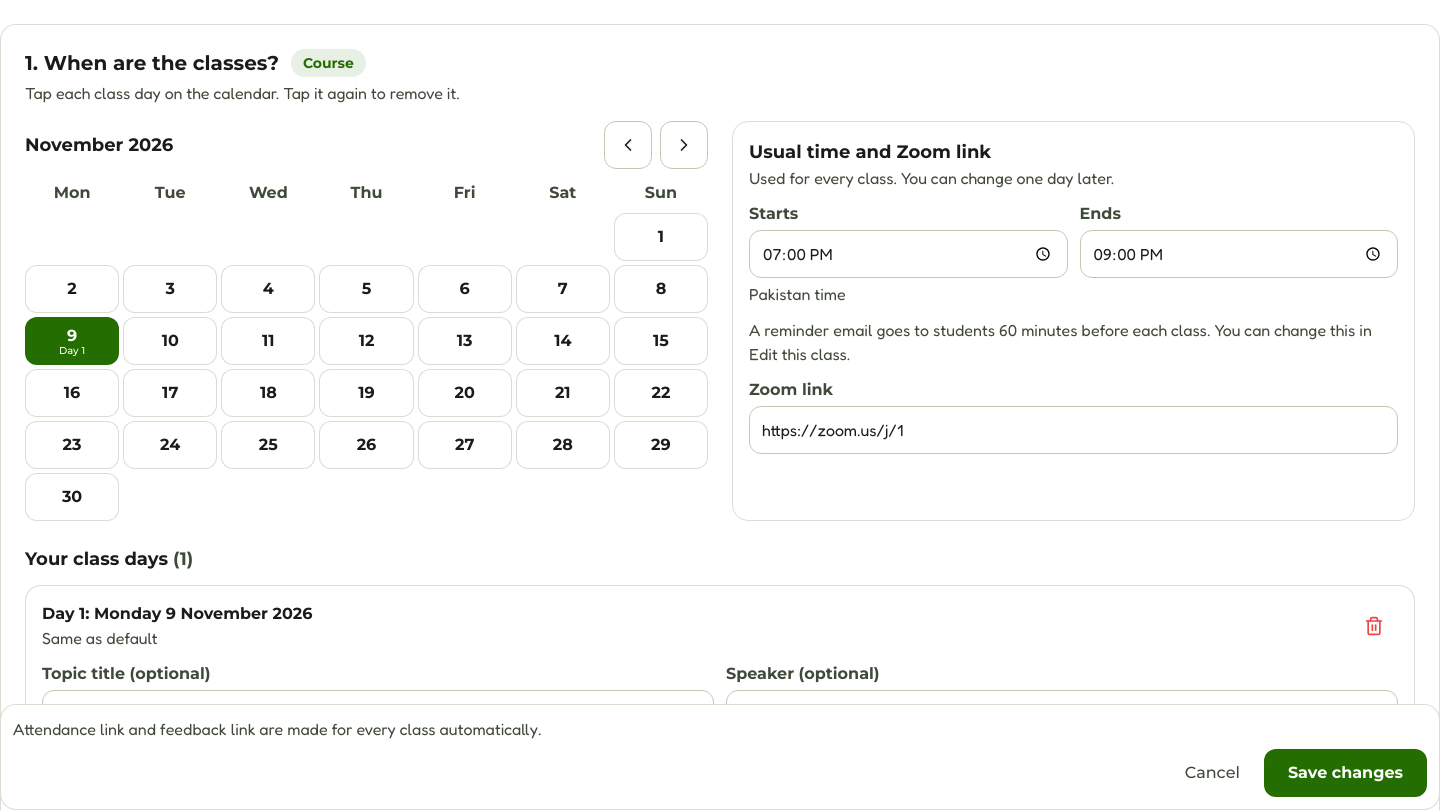
Test case: SetupForm › Keep it closes the confirmation and removes nothing, with focus on Keep it
Step 1. Click the button "9 Day 1" → {"x": 72, "y": 341}, box [25,317,119,365]
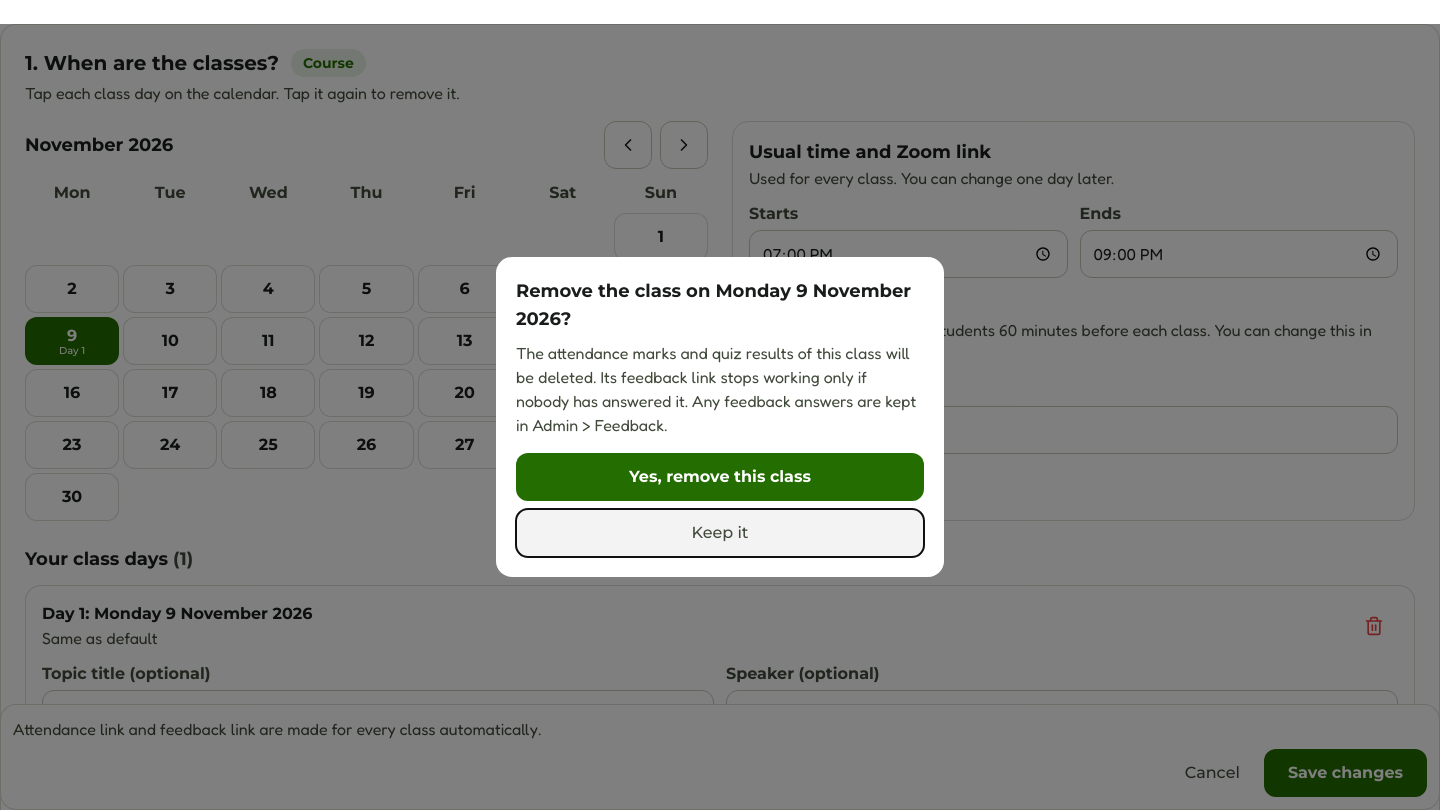
Step 2. Click the button "Keep it" → {"x": 720, "y": 533}, box [516,509,924,557]
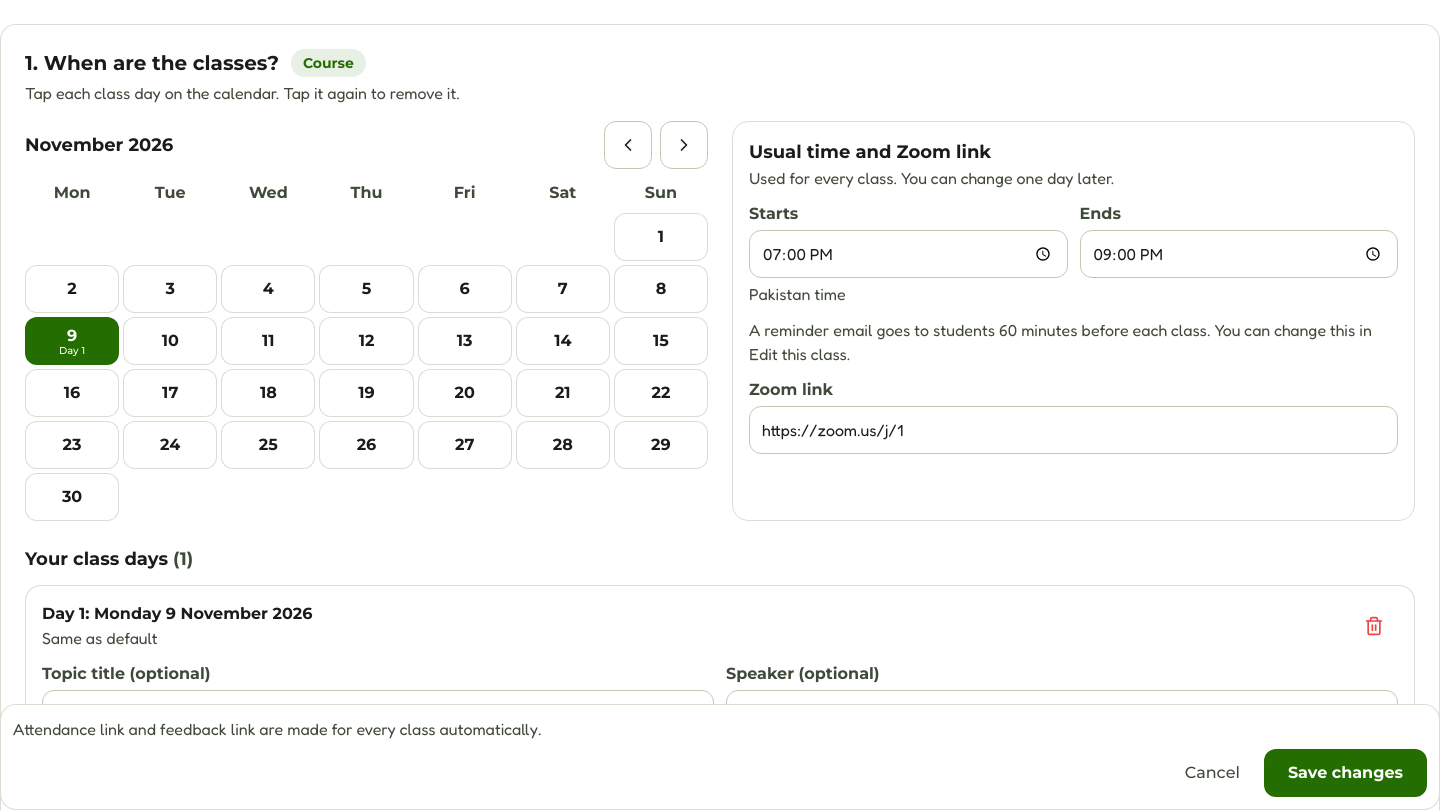
Now the dialog is gone
